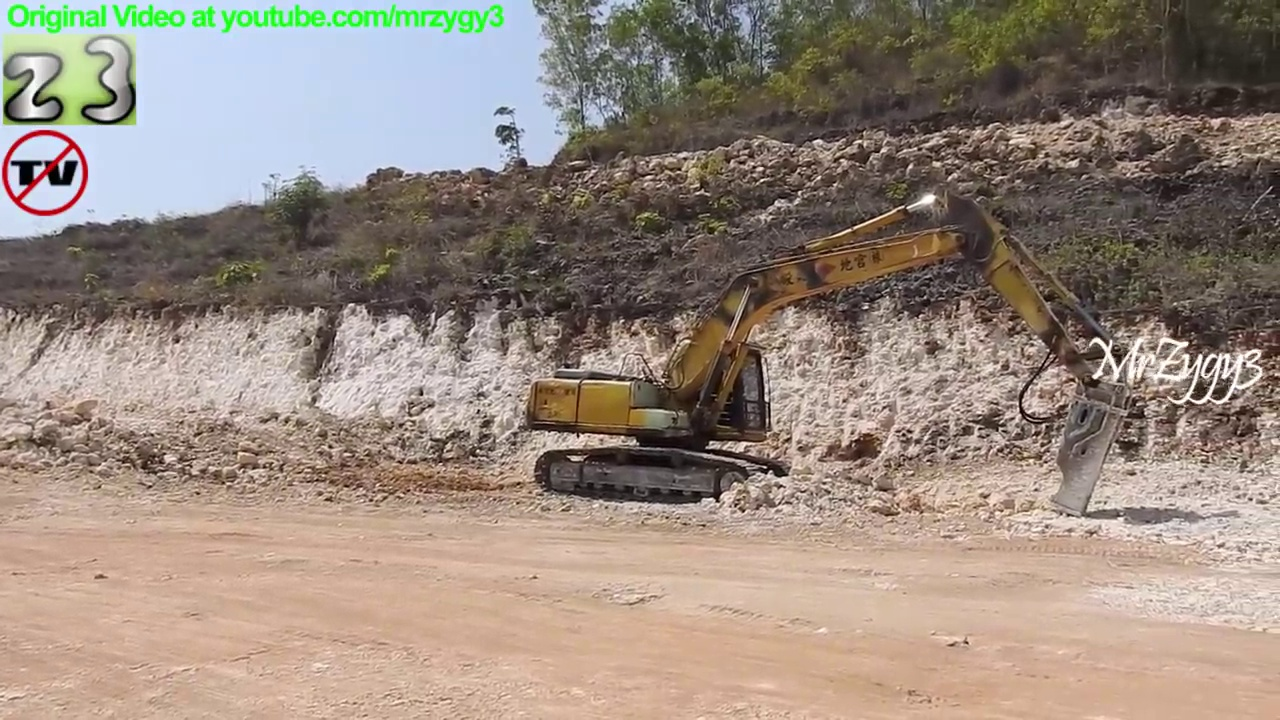excavator breaker: (515, 183, 1140, 531)
